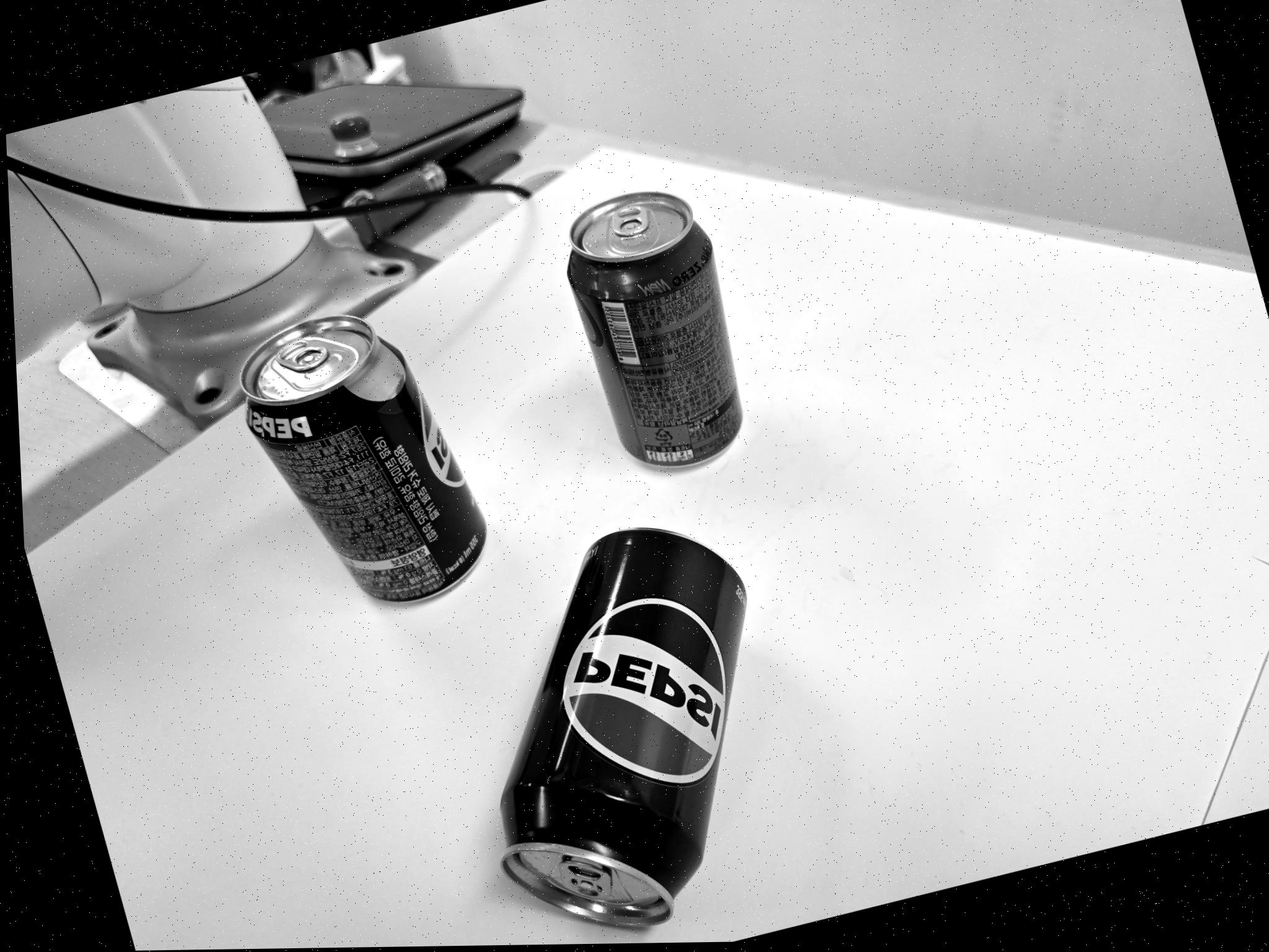can_coke_zero: (567, 192, 742, 467)
can_pepsi: (501, 528, 745, 926)
can_pepsi_zero: (243, 316, 486, 601)
